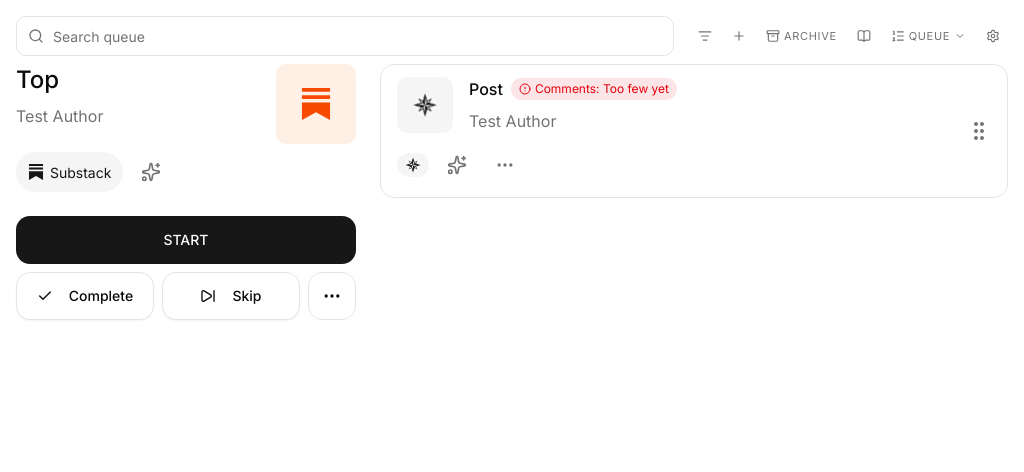
it: Convert comments with Askwho Casts (#368) › retries only the failed kind, with no manual fallback for comments
The width and height of the screenshot is (1024, 472).
Press the mouse on the button without text below "Post" at [505, 165], box 485,145 -> 525,185
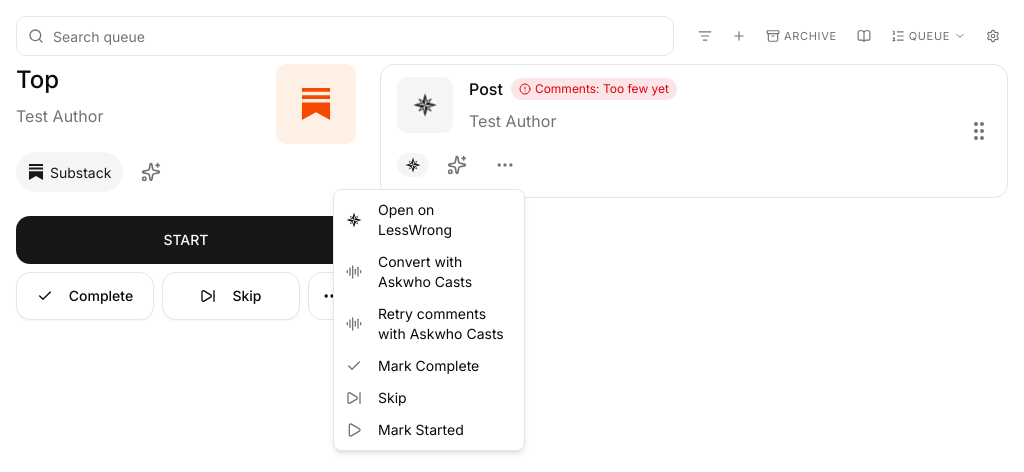
Check: the menu item "Retry comments with Askwho Casts" is shown, box 338,298 -> 520,350
Check: the menu item "Convert with Askwho Casts" is shown, box 346,253 -> 472,290
